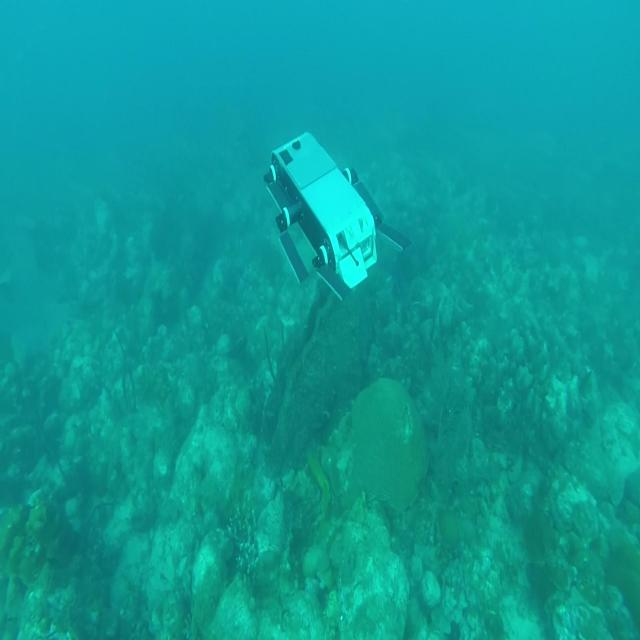human: (263, 129, 412, 302)
